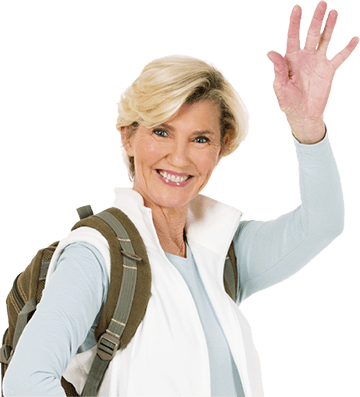open_hand: (260, 2, 360, 124)
